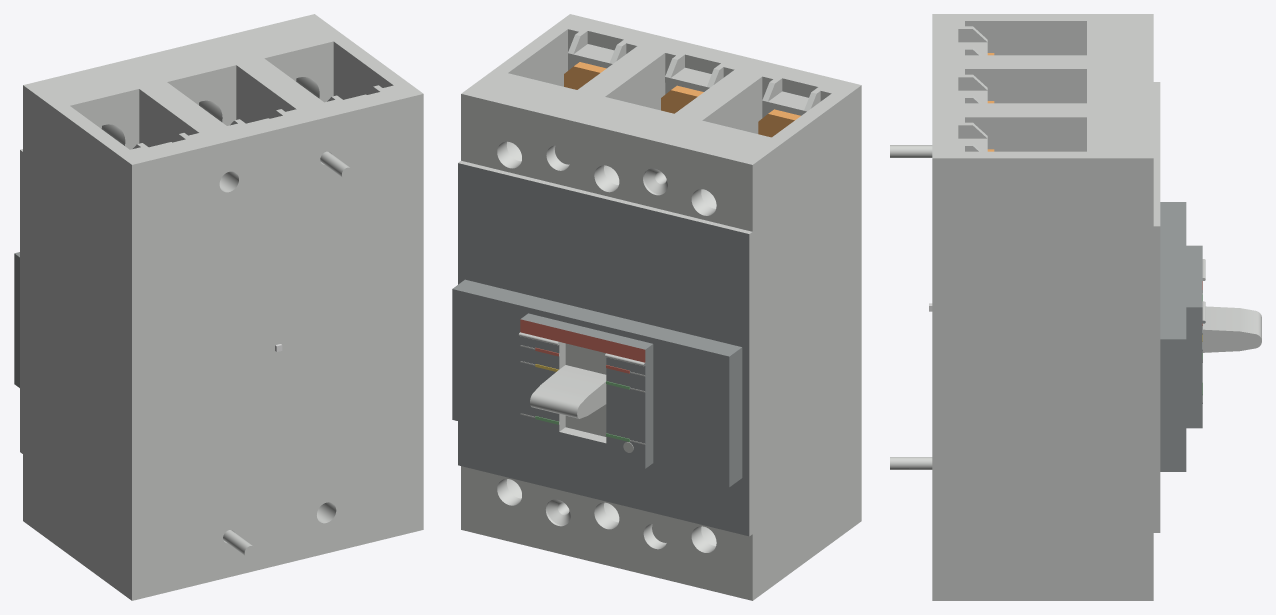
3 views of the same model, side by side, from view 1: azimuth 30°, elevation 25°; view 2: azimuth 150°, elevation 25°; view 3: azimuth 270°, elevation 25° (orthographic).
Parts seen in each view (by area): view 1: Body1; view 2: Body1; view 3: Body1.
Part boxes in pixels (x1,y1,x2,y2): Body1: (14,14,423,600); Body1: (452,14,861,600); Body1: (890,14,1261,600).
Bounding box in the file's own units: 105 × 150 × 114.
